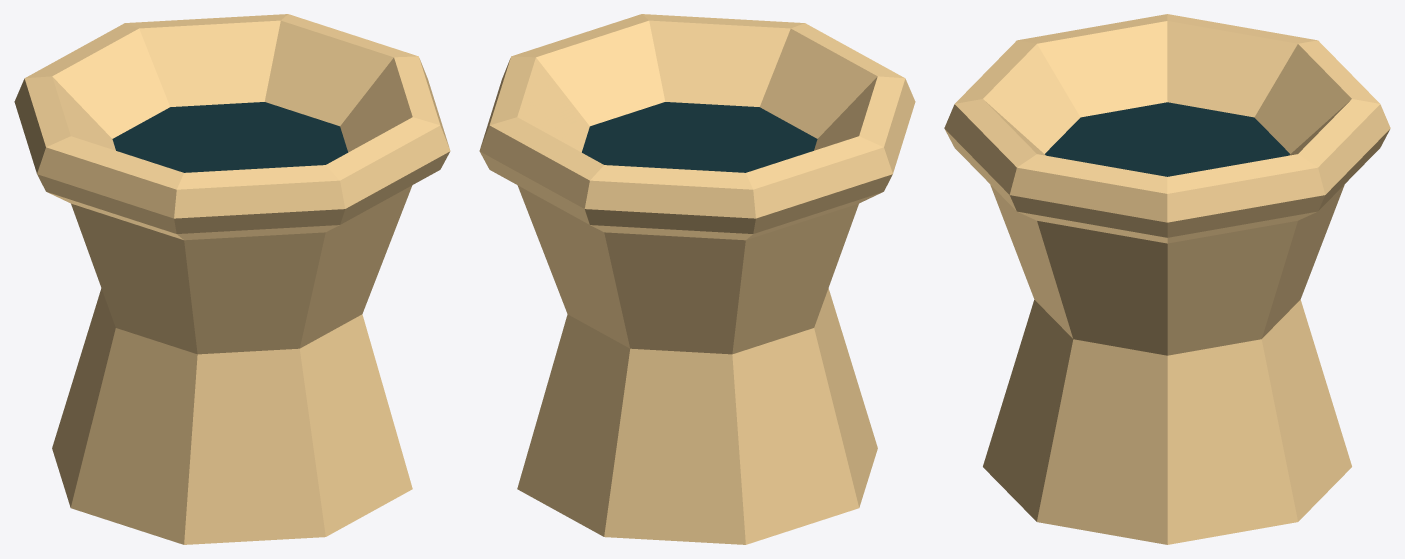
The model's file is wooden_seat_3.FBX.
3 renders of one model, left to right at view 1: azimuth 30°, elevation 25°; view 2: azimuth 150°, elevation 25°; view 3: azimuth 270°, elevation 25°, orthographic.
Parts seen in each view (by area): view 1: wooden_seat_3; view 2: wooden_seat_3; view 3: wooden_seat_3.
Part boxes in pixels (box(x1,y1,x2,y2)): wooden_seat_3: box(14, 14, 450, 544); wooden_seat_3: box(479, 14, 915, 544); wooden_seat_3: box(944, 14, 1390, 544).
Bounding box in the file's own units: 0.6646 × 0.6044 × 0.6646.
1 material, 1 textured.
